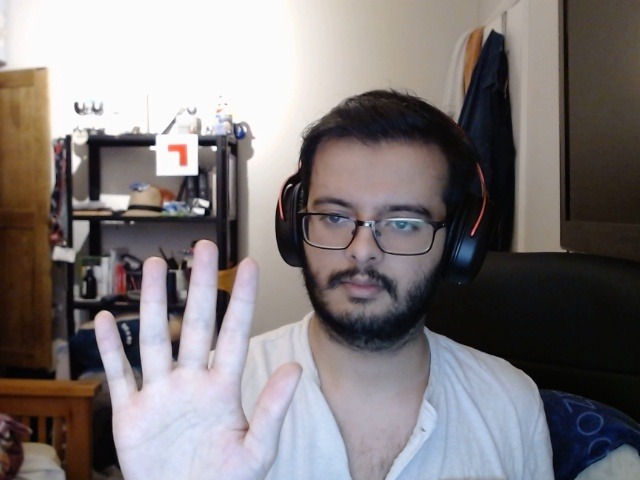Hello: (60, 233, 325, 480)
